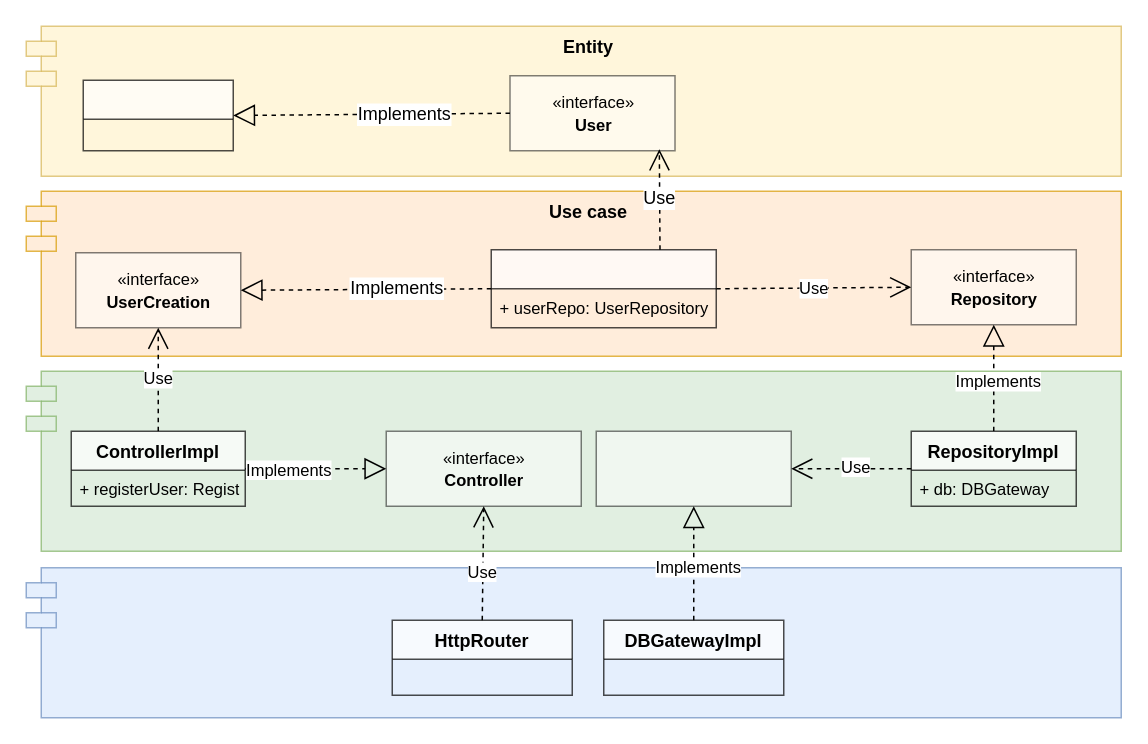
The diagram is 1148 pixels wide and 744 high, and some of its shapes have lost their labels. The shapes that lost their labels are listed below. From the top down, each one's box as (x1, y1, x2, y2) in pixels, then its label:
(82, 79, 233, 151): user
(490, 248, 716, 328): UserCreationInteractor
(25, 370, 1121, 551): Adapter
(595, 430, 791, 506): «interface» DBGateway
(25, 566, 1121, 718): External
